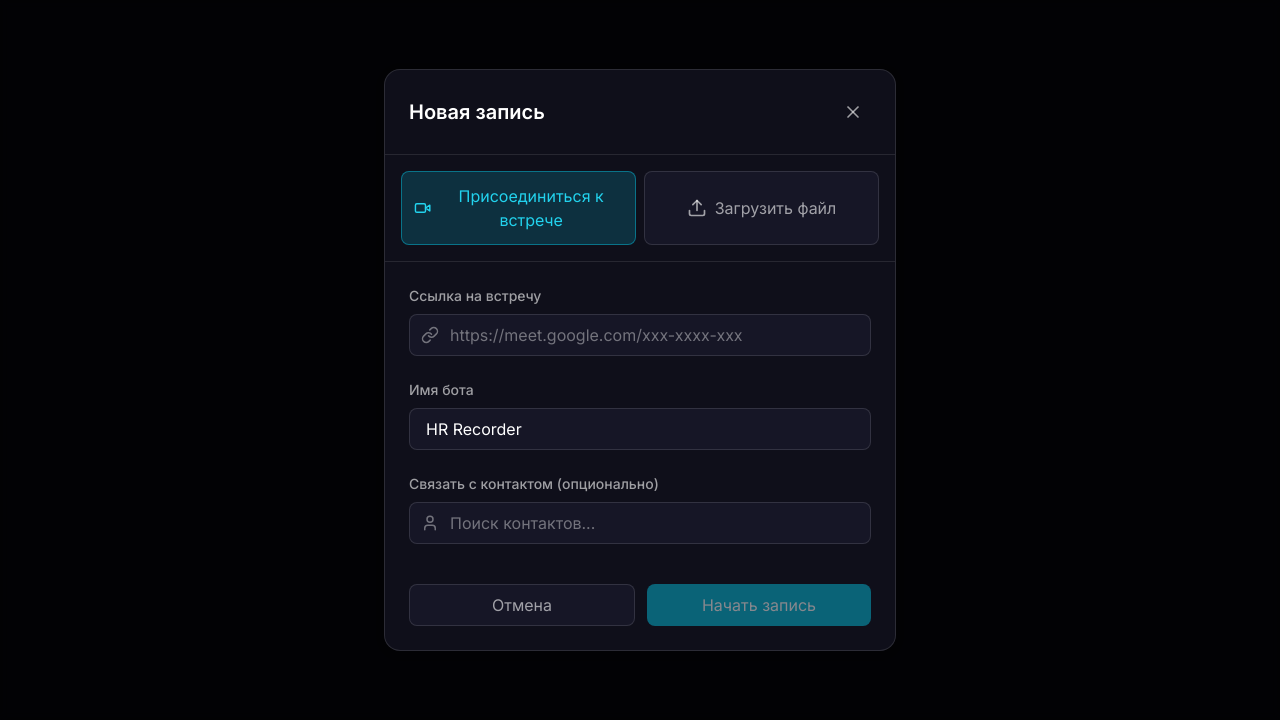
CallRecorderModal › Bot Mode › should enable submit button when URL is valid
In the field with placeholder "https://meet.google.com/xxx-xxxx-xxx": (640, 335) [409,314,871,356], type "https://meet.google.com/abc-defg-hij"
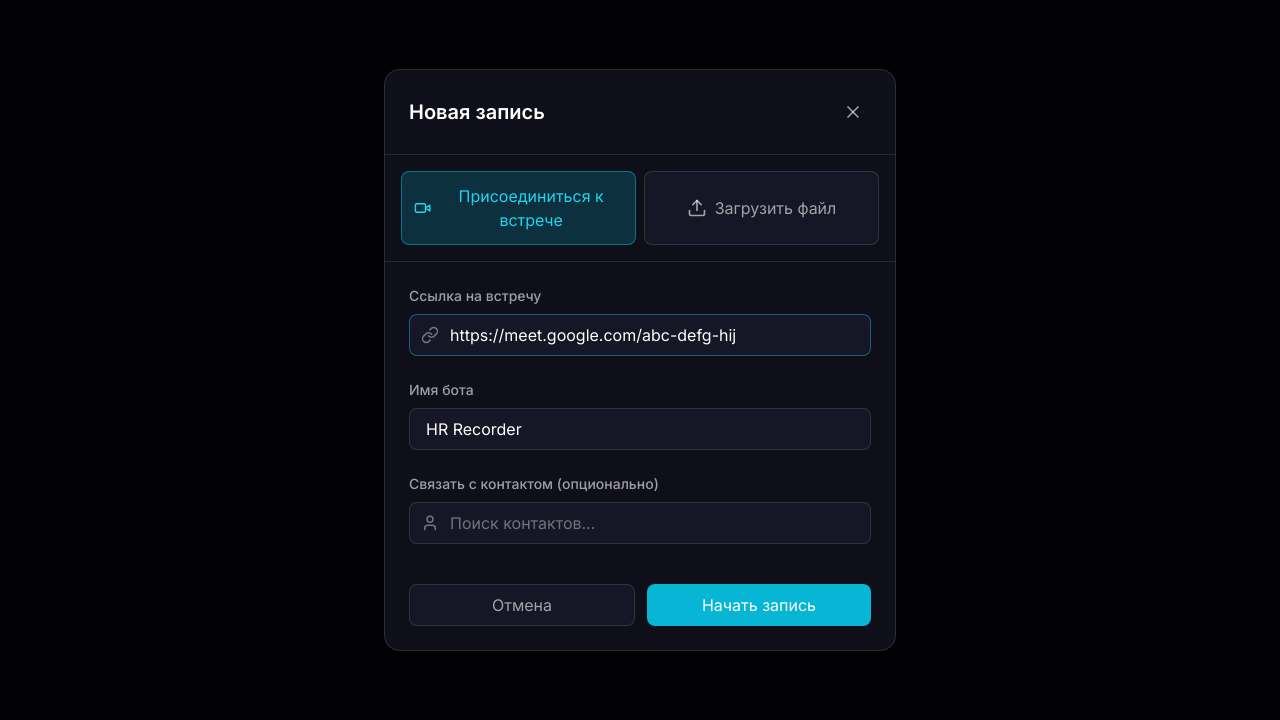
Result: the button "Начать запись" is enabled at [647,584,871,626]
